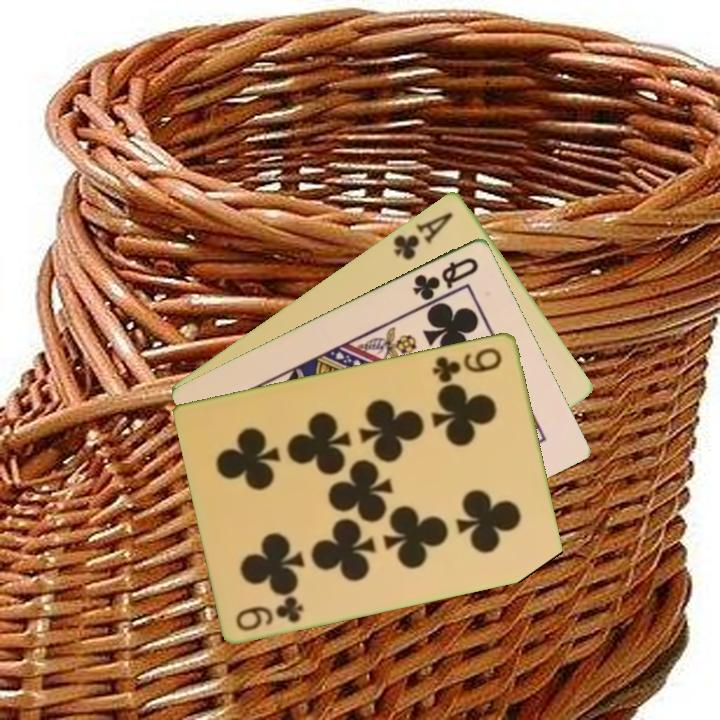9c: (429, 343, 506, 384), (232, 592, 307, 634)
Ac: (389, 208, 456, 263)
Qc: (409, 253, 482, 303)
